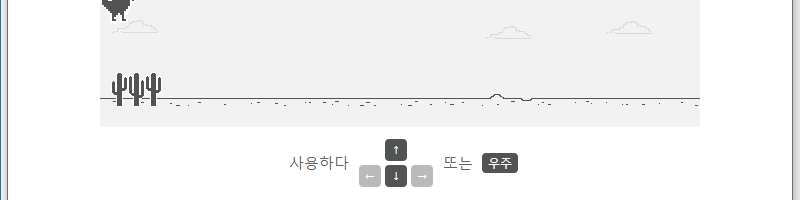dinosaur: (101, 1, 136, 22)
obstacle: (110, 71, 163, 108)
